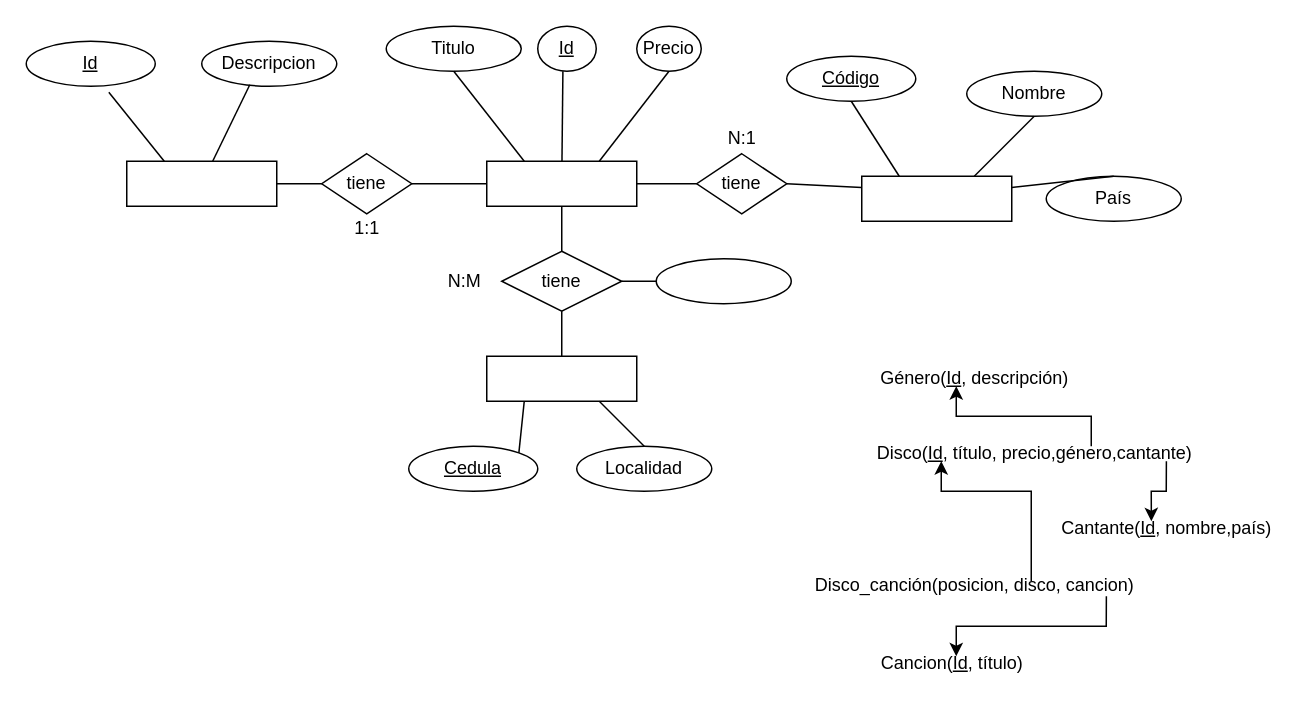
The diagram is 1313 pixels wide and 713 high, and some of its shapes have lost their labels. The centre of each missing label's shape, as x and y in pixels:
"Canción" belongs at pixel 561 378.
"Cantante" belongs at pixel 936 198.
"Disco" belongs at pixel 561 183.
"Género" belongs at pixel 201 183.
"Posición" belongs at pixel 723 280.
